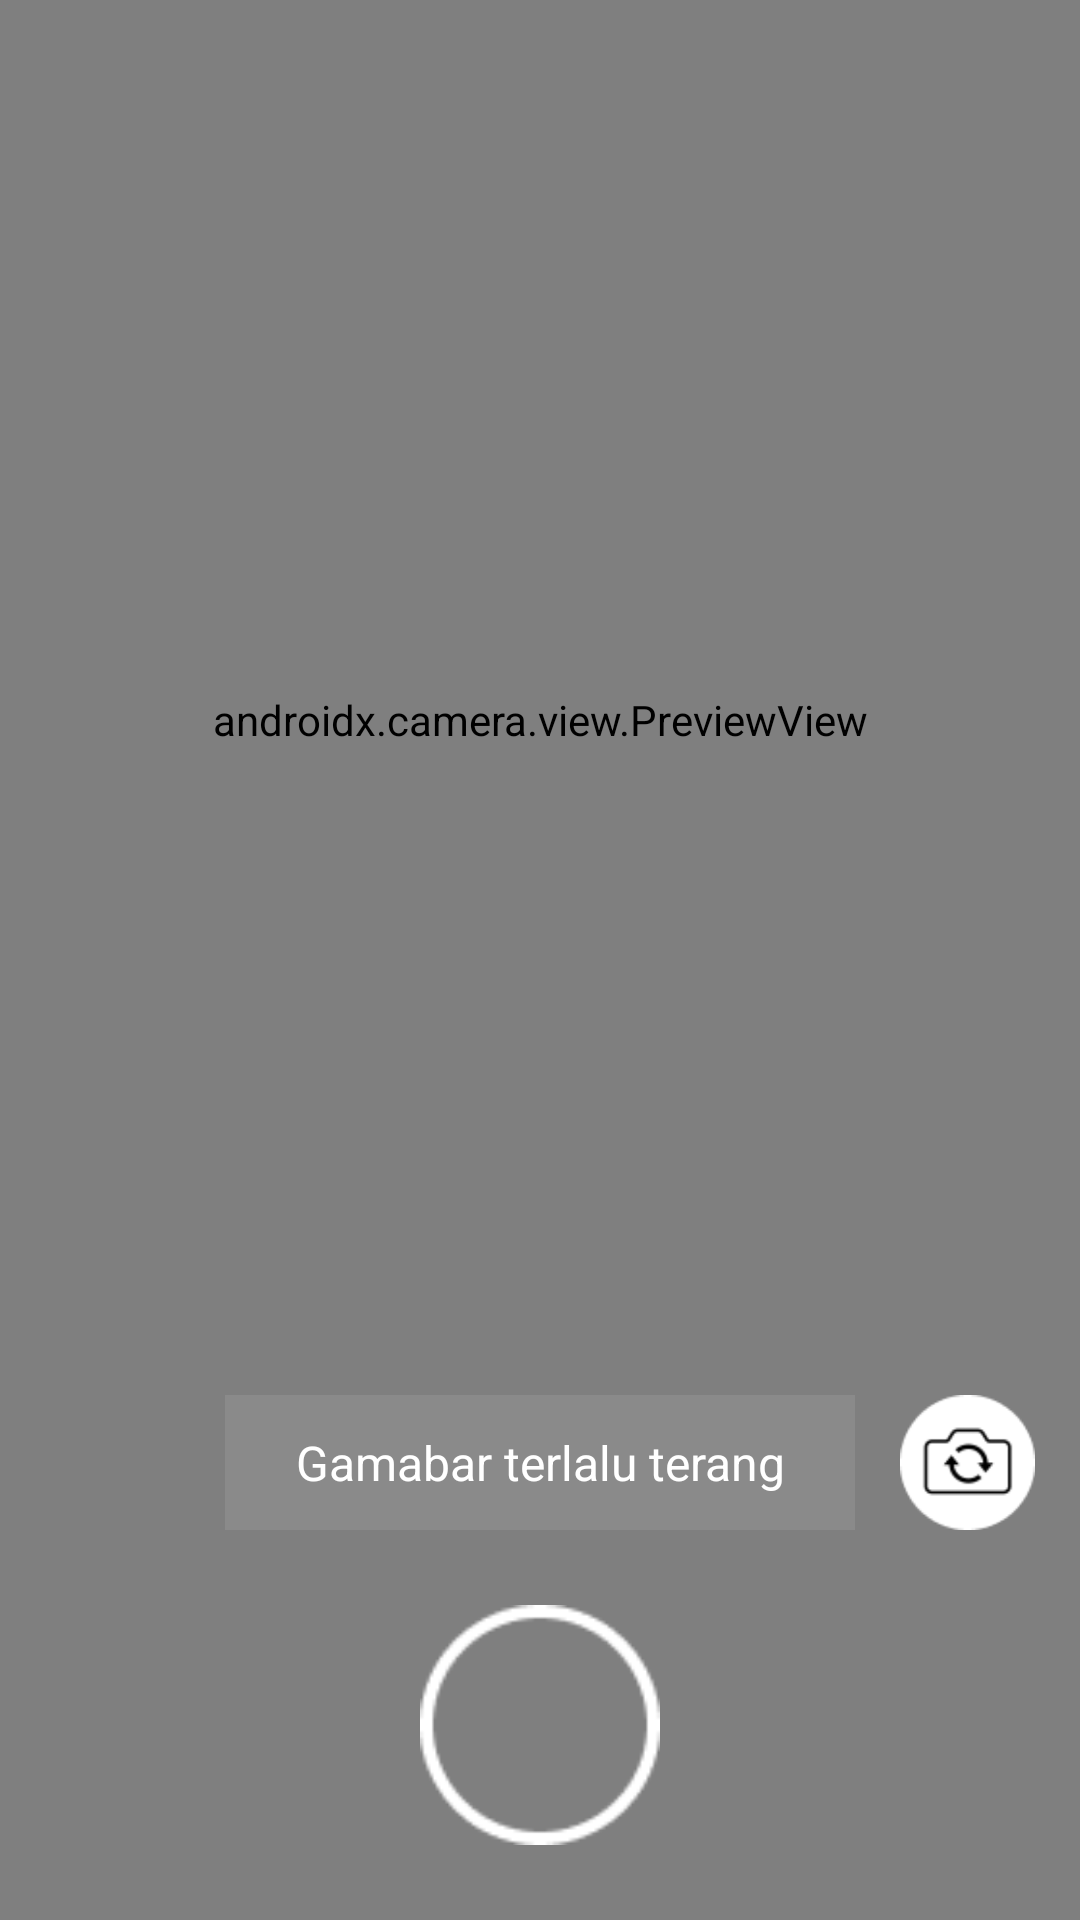

Screen size 1080px×1920px. Icon name, then its box in pixels as [left=x1, top=y1, right=x2, bottom=y2]:
change camera: [left=900, top=1395, right=1035, bottom=1530]
